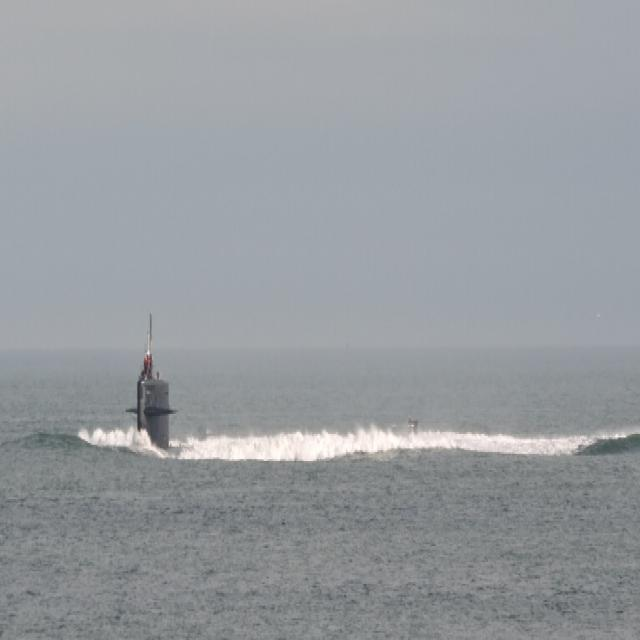submarine: (112, 316, 183, 451)
